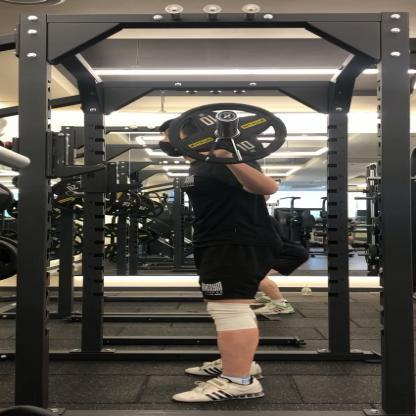Barbell: (214, 109, 245, 126)
